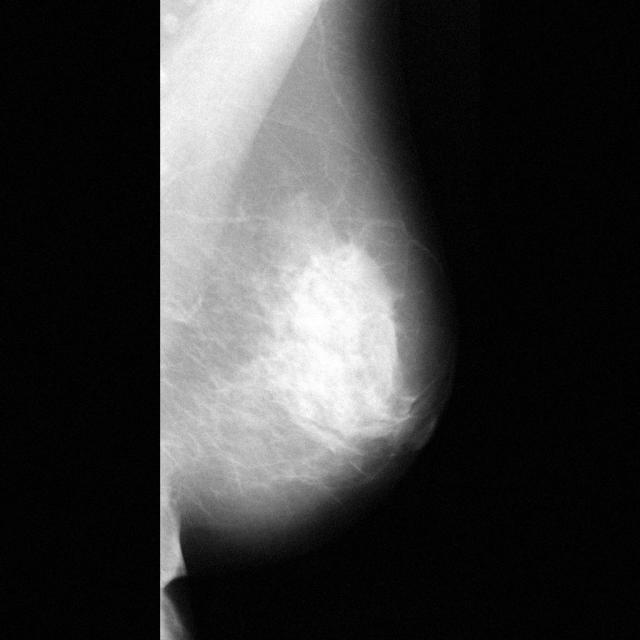CALC: (428, 87, 431, 91)
